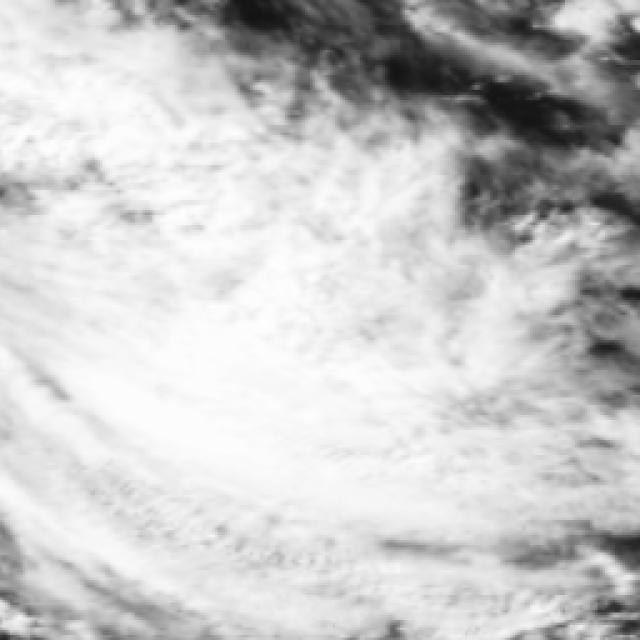CB: (75, 274, 442, 547)
